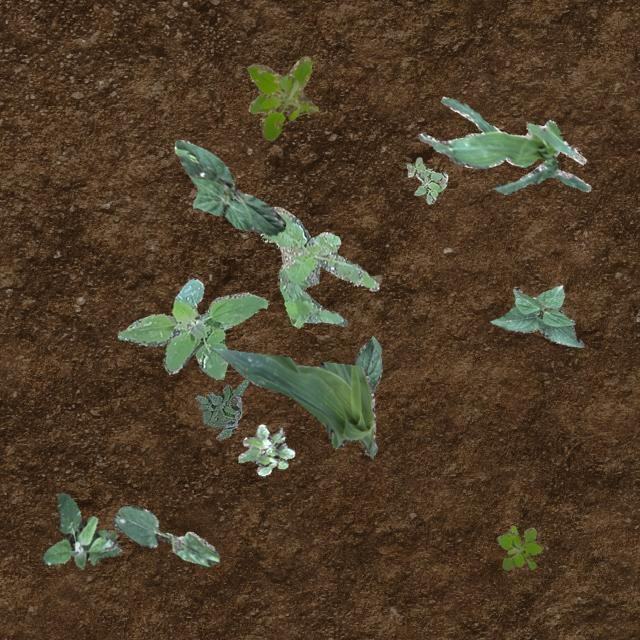crop: (212, 347, 376, 457), (416, 95, 590, 194), (174, 138, 284, 234), (110, 506, 218, 566), (490, 284, 582, 346), (354, 334, 381, 392)
weed: (116, 277, 268, 378), (260, 206, 378, 326), (246, 54, 316, 140), (41, 492, 120, 568), (194, 378, 248, 439), (238, 424, 294, 474), (496, 524, 542, 570), (406, 156, 446, 202)
